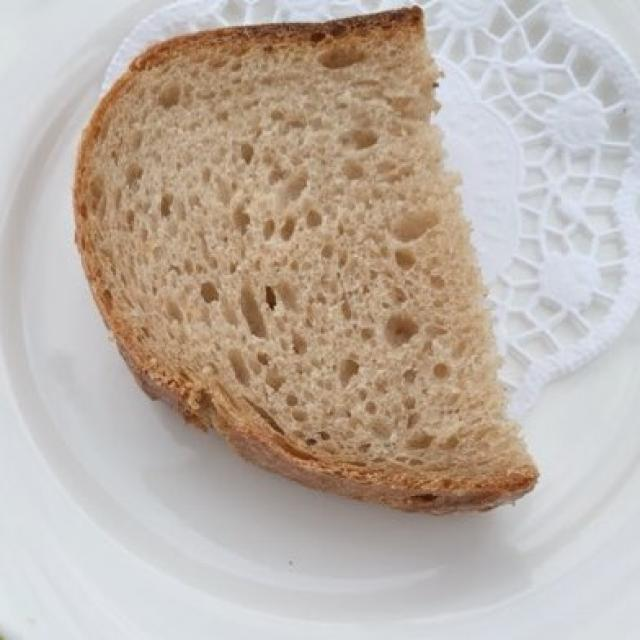bread: (78, 12, 530, 503)
